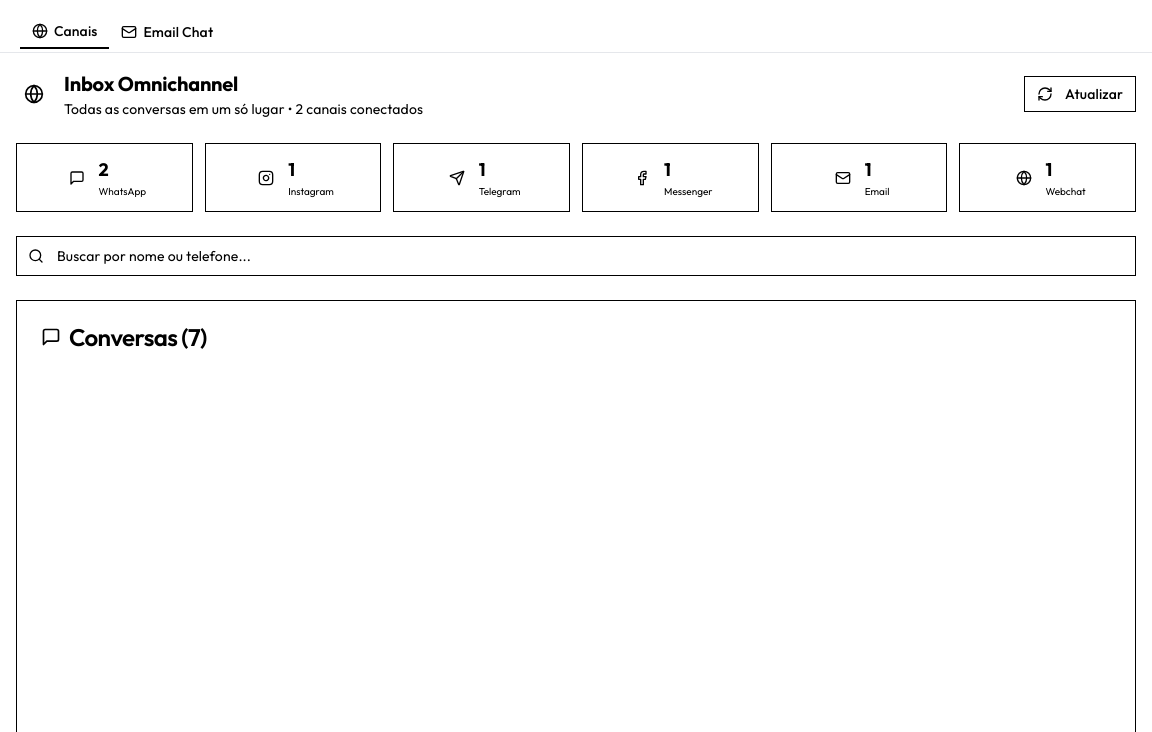
Test: OmnichannelInbox › Channel filtering › renders clear filter button when filtered
Expected: the text "WhatsApp" is shown, 98,184 -> 146,199
Note: Click a channel to filter
Click the text "WhatsApp" at (104, 178), box 16,143 -> 193,212
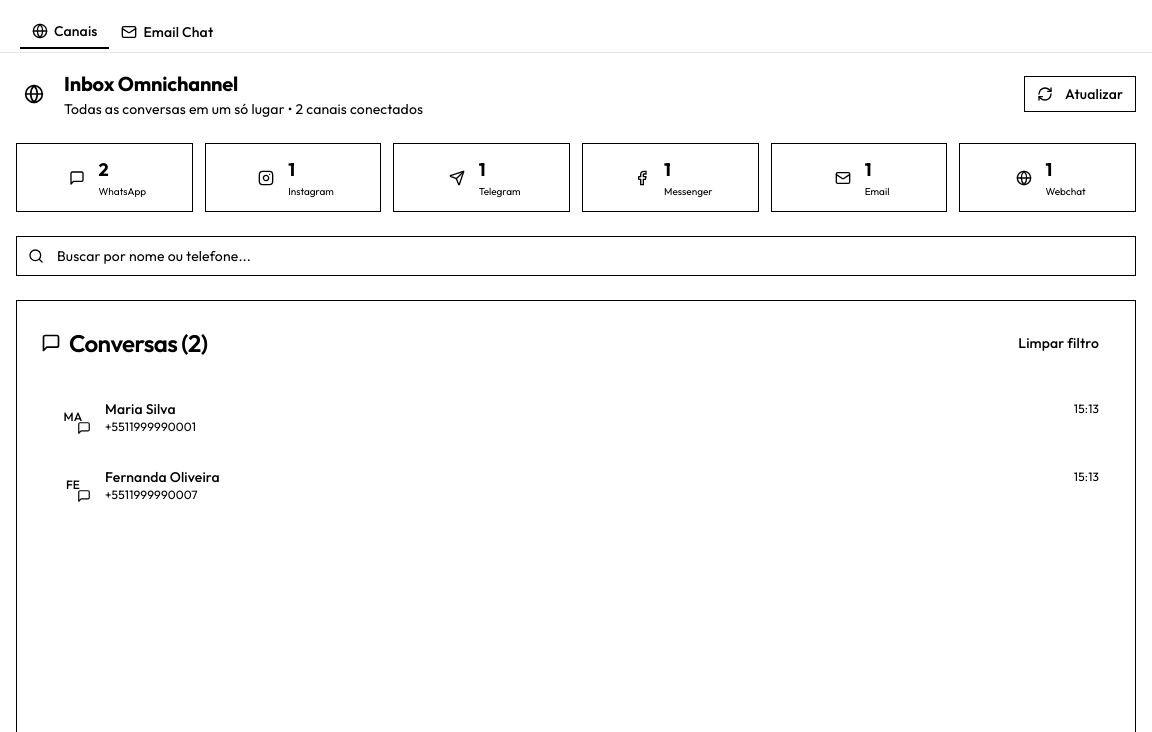
Result: the button "Limpar filtro" is shown at 1006,325 -> 1111,361
